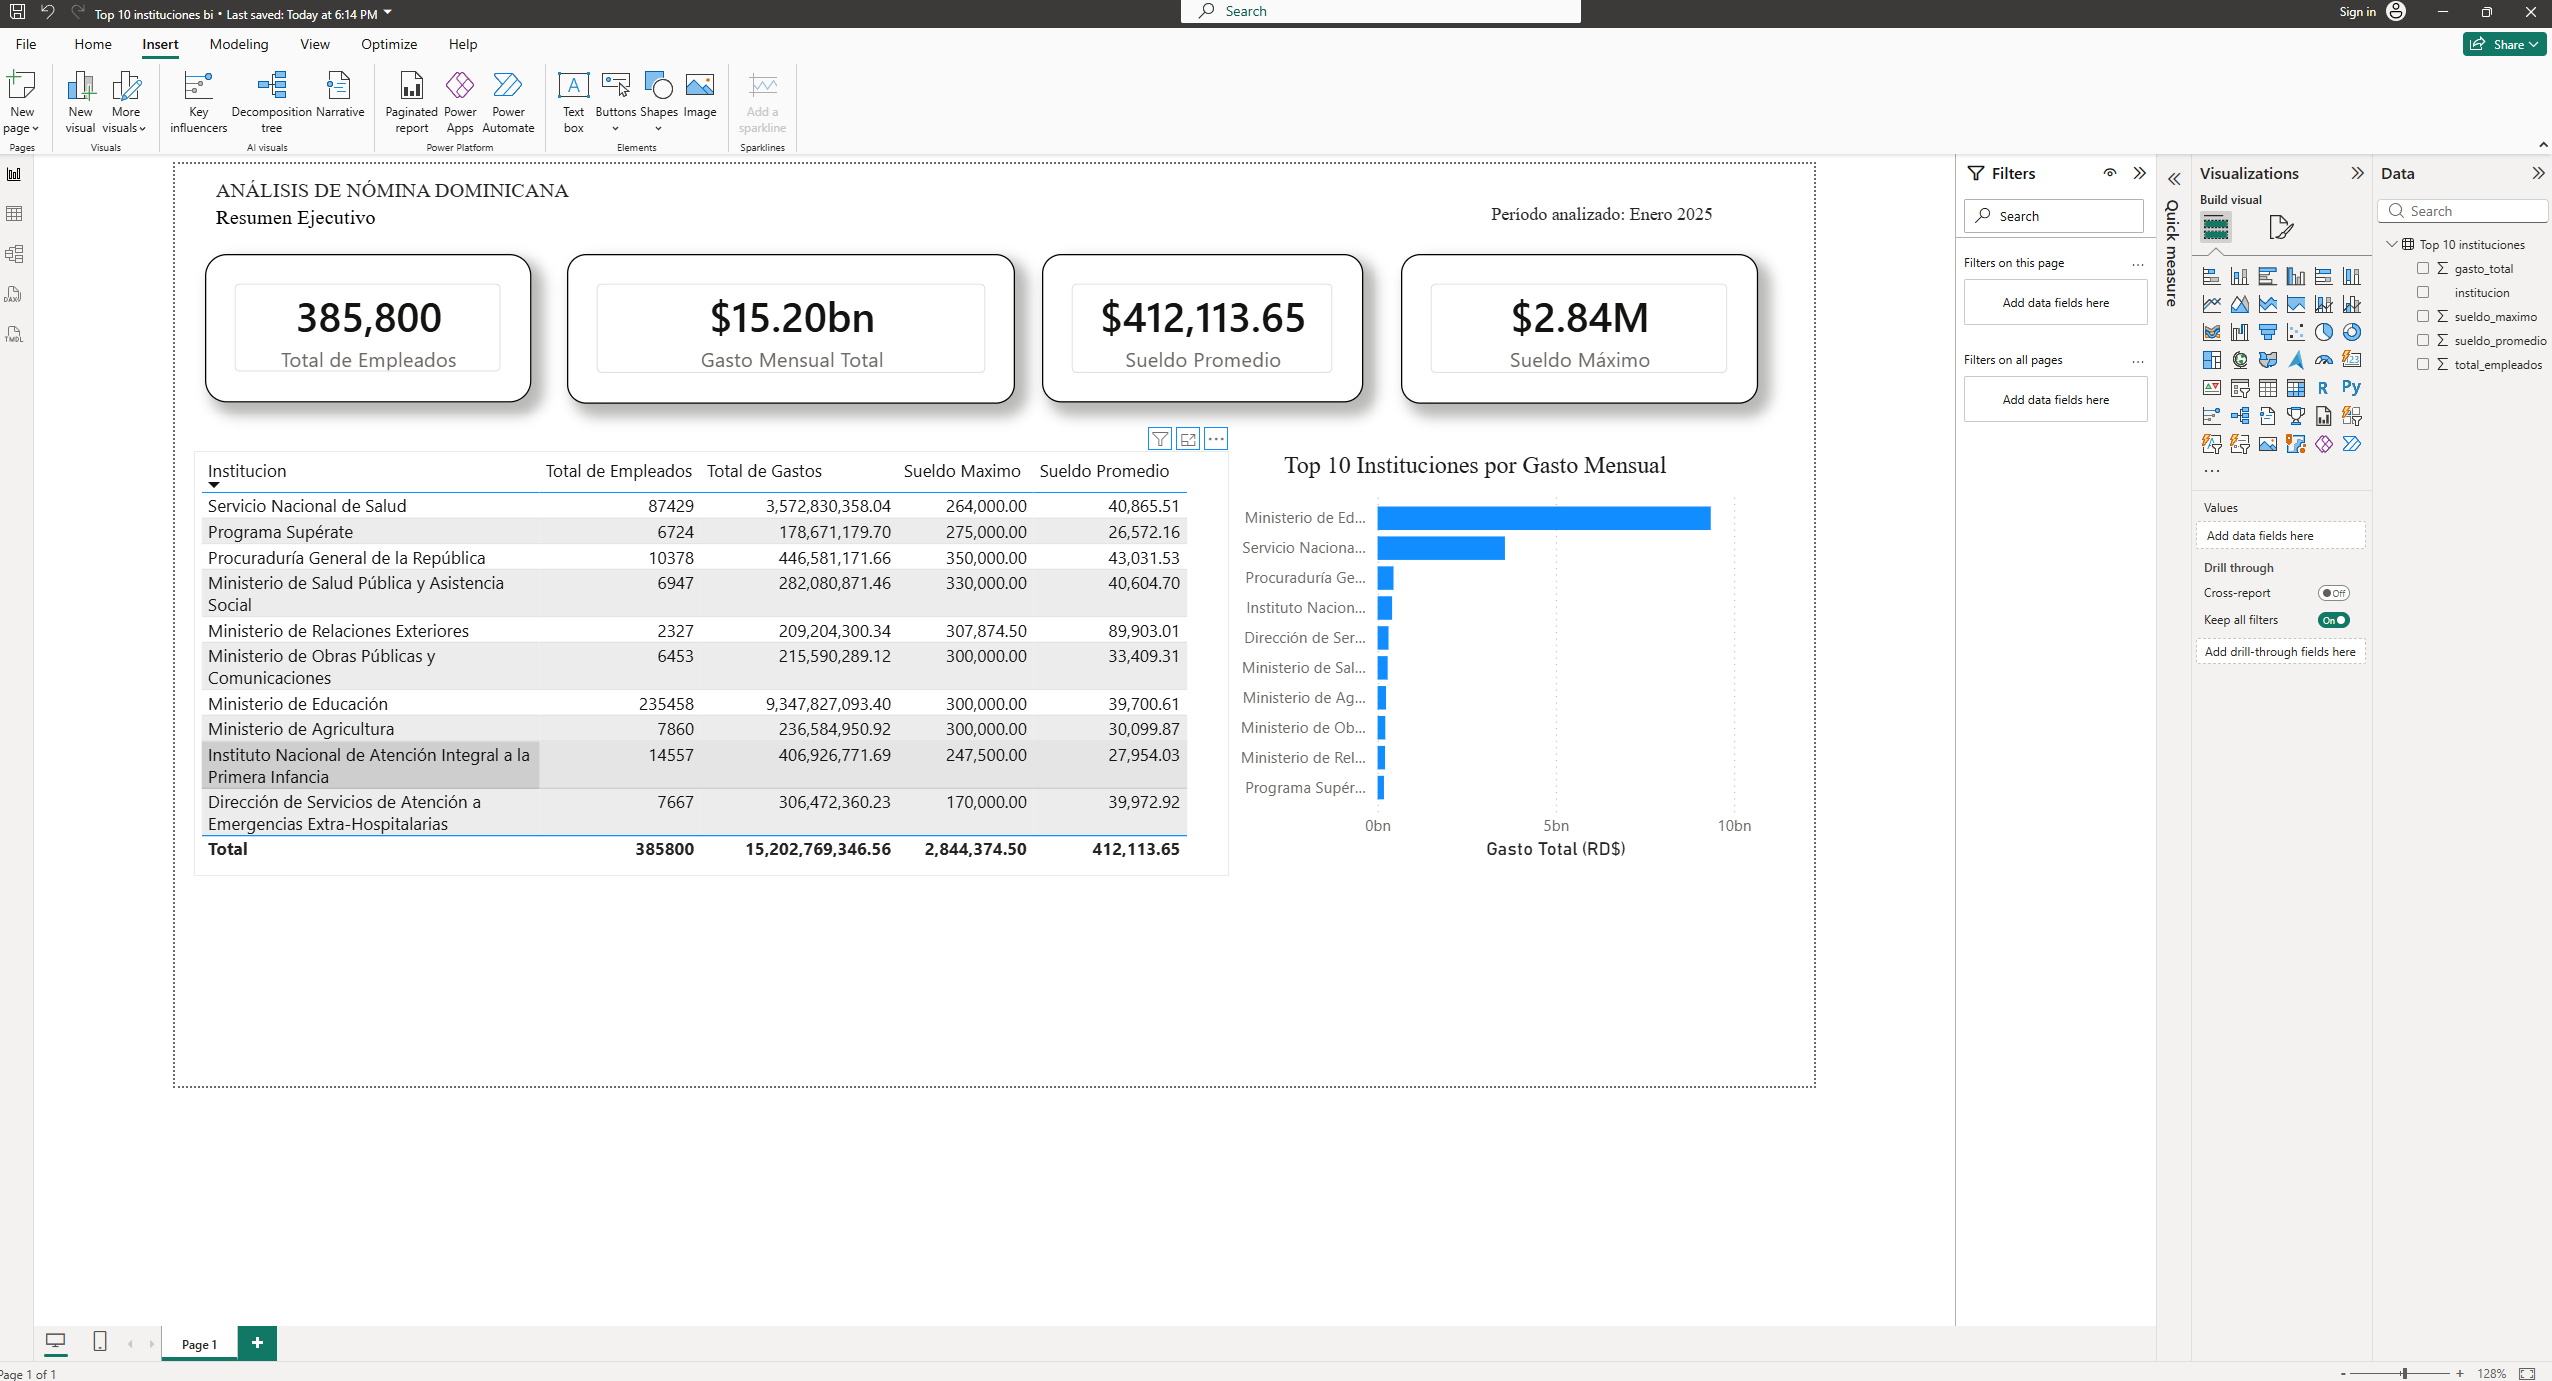

Layout of this report page (visuals, bound fields, positions):
{"tool":"powerbi","page":{"name":"Page 1","canvas":[1280,720],"ordinal":0},"visuals":[{"type":"cardVisual","fields":{"Data":["Sum(Top 10 instituciones.total_empleados)"]},"box":[23.6,70.7,254.6,115.8],"z":0},{"type":"cardVisual","fields":{"Data":["Sum(Top 10 instituciones.gasto_total)"]},"box":[306.5,70,350.5,116.6],"z":1000},{"type":"cardVisual","fields":{"Data":["Sum(Top 10 instituciones.sueldo_promedio)"]},"box":[677.3,70.7,250.6,116.5],"z":2000},{"type":"cardVisual","fields":{"Data":["Sum(Top 10 instituciones.sueldo_maximo)"]},"box":[958.2,70.6,278.5,116.6],"z":3000},{"type":"clusteredBarChart","title":"Top 10 Instituciones por Gasto Mensual","fields":{"Category":["Top 10 instituciones.institucion"],"Y":["Sum(Top 10 instituciones.gasto_total)"]},"box":[794.3,223.9,442.4,323.8],"z":4000},{"type":"tableEx","fields":{"Values":["Top 10 instituciones.institucion","Sum(Top 10 instituciones.total_empleados)","Sum(Top 10 instituciones.gasto_total)","Sum(Top 10 instituciones.sueldo_maximo)","Sum(Top 10 instituciones.sueldo_promedio)"]},"box":[14.7,223.9,808.9,332.5],"z":5000},{"type":"shape","title":"ANÁLISIS DE NÓMINA DOMINICANA ","box":[32.1,11.8,322,41.2],"z":6000},{"type":"textbox","box":[1023.5,25.3,221.9,28],"z":7000}]}

Visuals, with their boxes on the page's 1280x720 design canvas (x1, y1, x2, y2). These are canvas units, not pixel positions in the 2552x1381 screenshot, which may show the page scaled, cropped or inside an application window:
cardVisual - Sum(Top 10 instituciones.total_empleados): l=24, t=71, r=278, b=186
cardVisual - Sum(Top 10 instituciones.gasto_total): l=306, t=70, r=657, b=187
cardVisual - Sum(Top 10 instituciones.sueldo_promedio): l=677, t=71, r=928, b=187
cardVisual - Sum(Top 10 instituciones.sueldo_maximo): l=958, t=71, r=1237, b=187
"Top 10 Instituciones por Gasto Mensual" clusteredBarChart: l=794, t=224, r=1237, b=548
tableEx - Top 10 instituciones.institucion x Sum(Top 10 instituciones.total_empleados): l=15, t=224, r=824, b=556
"ANÁLISIS DE NÓMINA DOMINICANA " shape: l=32, t=12, r=354, b=53
textbox: l=1024, t=25, r=1245, b=53
